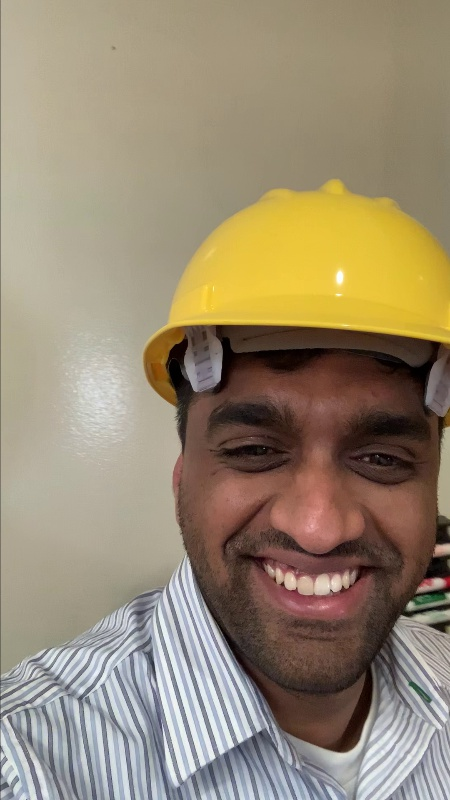helmet: (123, 181, 450, 409)
